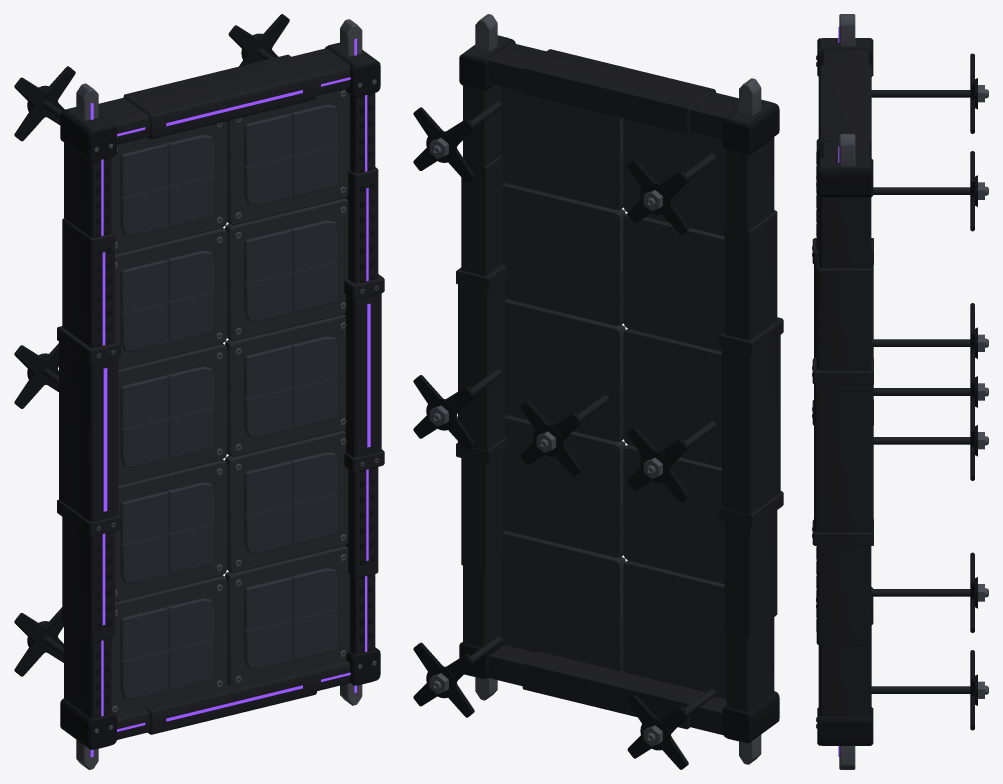
File: wall-fortification-small-sealed.glb
3 views of the same model, side by side, from view 1: azimuth 30°, elevation 25°; view 2: azimuth 150°, elevation 25°; view 3: azimuth 270°, elevation 25° (orthographic). The views are drawn at different scales.
Visible parts, largest first — view 1: body_LOD0; view 2: body_LOD0; view 3: body_LOD0.
Boxes of the visible parts, box(x1,y1,x2,y2) form: body_LOD0: box(14, 14, 384, 769); body_LOD0: box(413, 14, 783, 769); body_LOD0: box(812, 14, 988, 769).
Size of what is drawn, in the model's own units: 0.9954 by 2.19 by 0.552.
